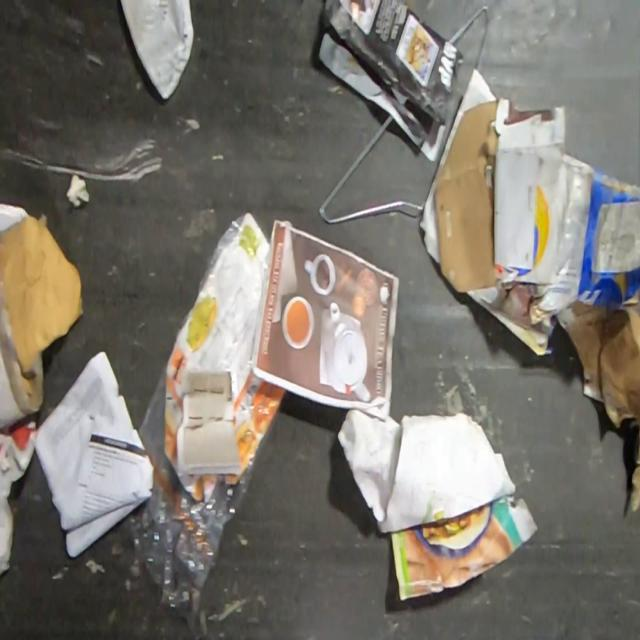cardboard: (433, 97, 566, 294), (419, 68, 498, 263), (0, 209, 86, 373), (528, 153, 593, 329), (576, 167, 639, 306), (466, 291, 555, 357), (0, 298, 44, 431)
metal: (318, 113, 426, 224), (448, 4, 492, 74)
soft_plastic: (123, 210, 288, 632), (120, 0, 195, 100)
